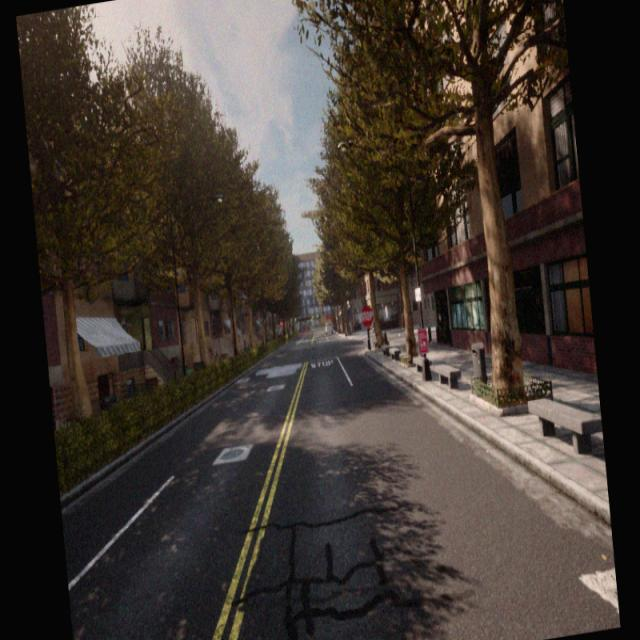stop sign: (358, 303, 374, 328)
